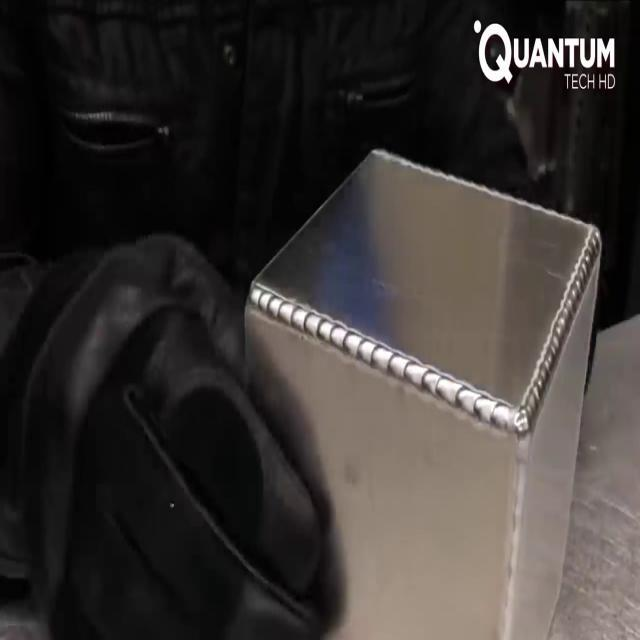Good Weld: (258, 241, 596, 434)
